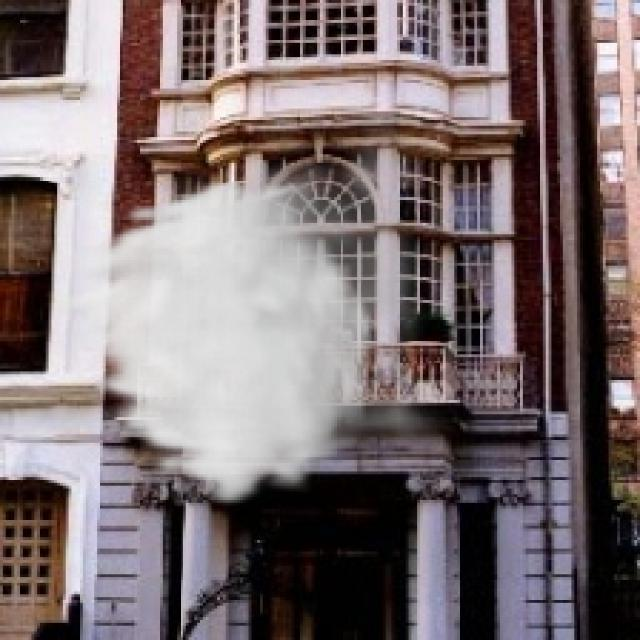Smoke: (51, 109, 452, 508)
